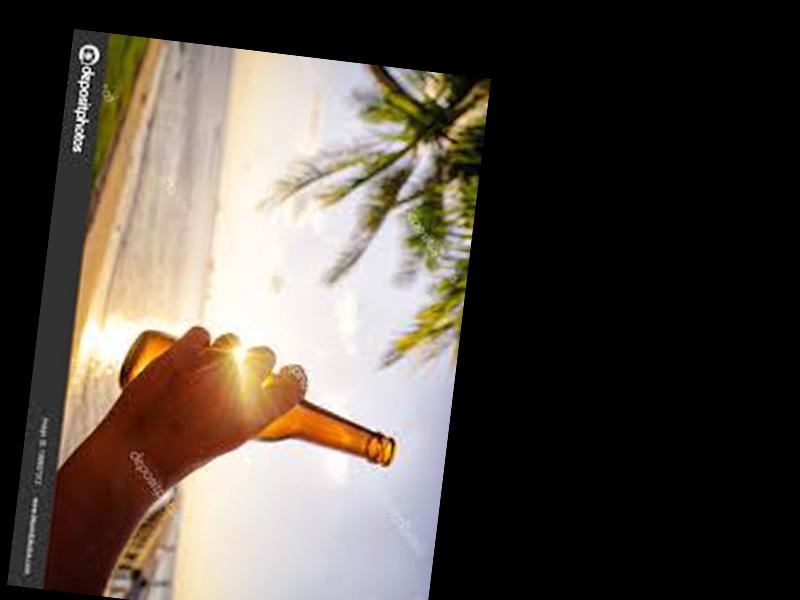Beer: (110, 329, 405, 470)
